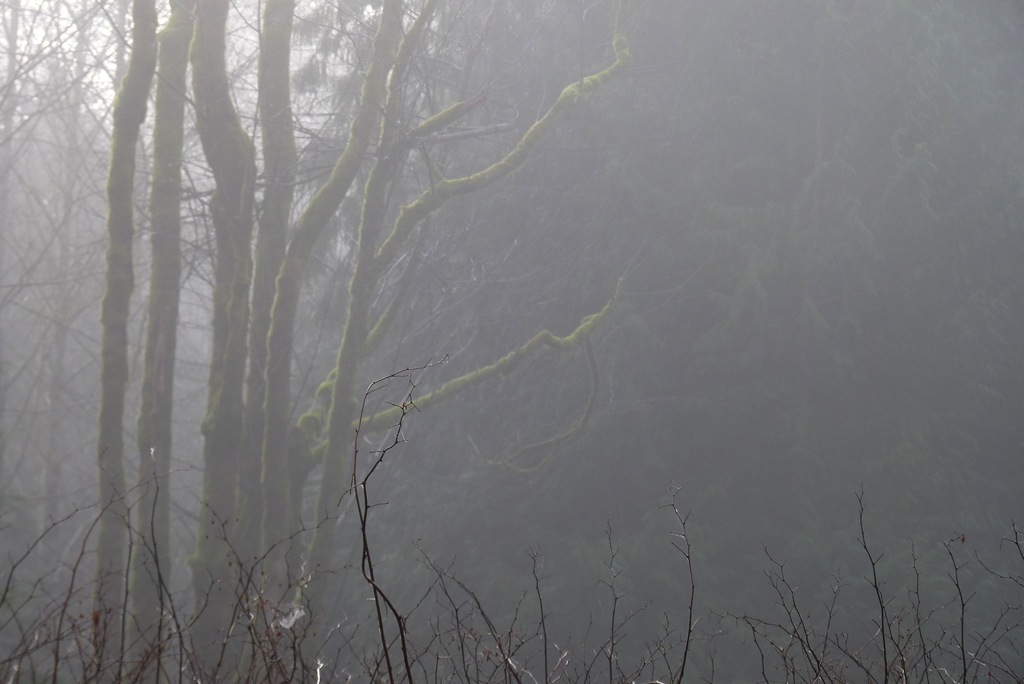Tree: (3, 0, 1023, 683)
